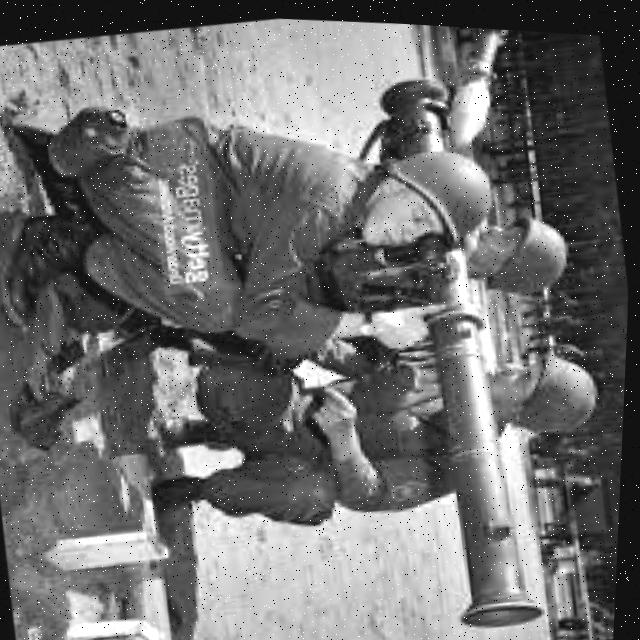rocket: (357, 61, 575, 633)
